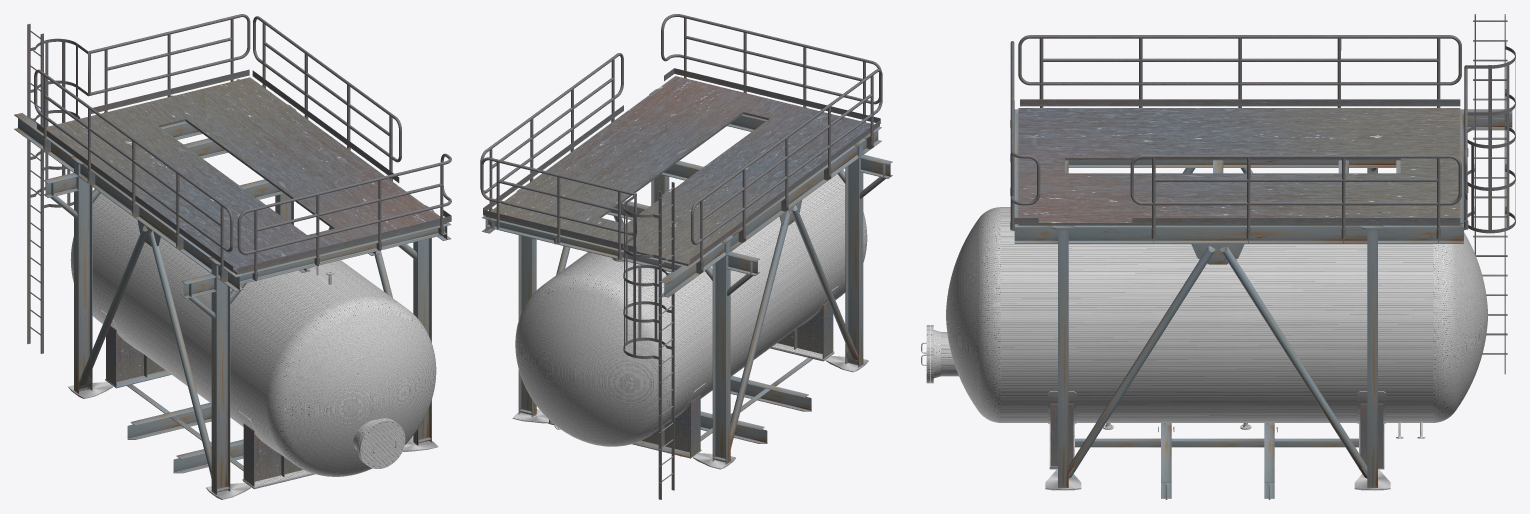
File: guanziheng.glb
3 views of the same model, side by side, from view 1: azimuth 30°, elevation 25°; view 2: azimuth 150°, elevation 25°; view 3: azimuth 270°, elevation 25° (orthographic). The views are drawn at different scales.
Visible parts, largest first — view 1: 3D Models at 3dxy, 对象004, Condensate_Module, 对象006, 对象005, 对象; view 2: 3D Models at 3dxy, 对象004, Condensate_Module, 对象007, 对象005, 对象; view 3: Condensate_Module, 3D Models at 3dxy, 对象004, 对象006, 对象007, 对象005, 对象001.
Boxes of the visible parts, left/top/right/bottom form: 3D Models at 3dxy: left=14, top=14, right=451, bottom=494; 对象004: left=46, top=77, right=446, bottom=274; Condensate_Module: left=70, top=193, right=436, bottom=487; 对象006: left=285, top=313, right=433, bottom=472; 对象005: left=106, top=325, right=303, bottom=486; 对象: left=68, top=382, right=250, bottom=499; 3D Models at 3dxy: left=480, top=14, right=892, bottom=499; 对象004: left=486, top=76, right=870, bottom=265; Condensate_Module: left=515, top=174, right=867, bottom=446; 对象007: left=517, top=289, right=658, bottom=442; 对象005: left=549, top=301, right=833, bottom=457; 对象: left=693, top=356, right=868, bottom=469; Condensate_Module: left=921, top=207, right=1455, bottom=467; 3D Models at 3dxy: left=1010, top=14, right=1515, bottom=499; 对象004: left=1018, top=108, right=1460, bottom=225; 对象006: left=946, top=219, right=978, bottom=411; 对象007: left=1455, top=232, right=1487, bottom=410; 对象005: left=1050, top=403, right=1383, bottom=467; 对象001: left=1045, top=469, right=1390, bottom=490.
Size of the model in its own units: 0.0445 by 0.0575 by 0.082.
5 materials, 5 textured.
